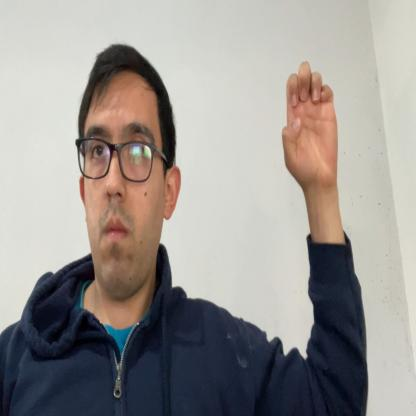E: (282, 59, 340, 190)
